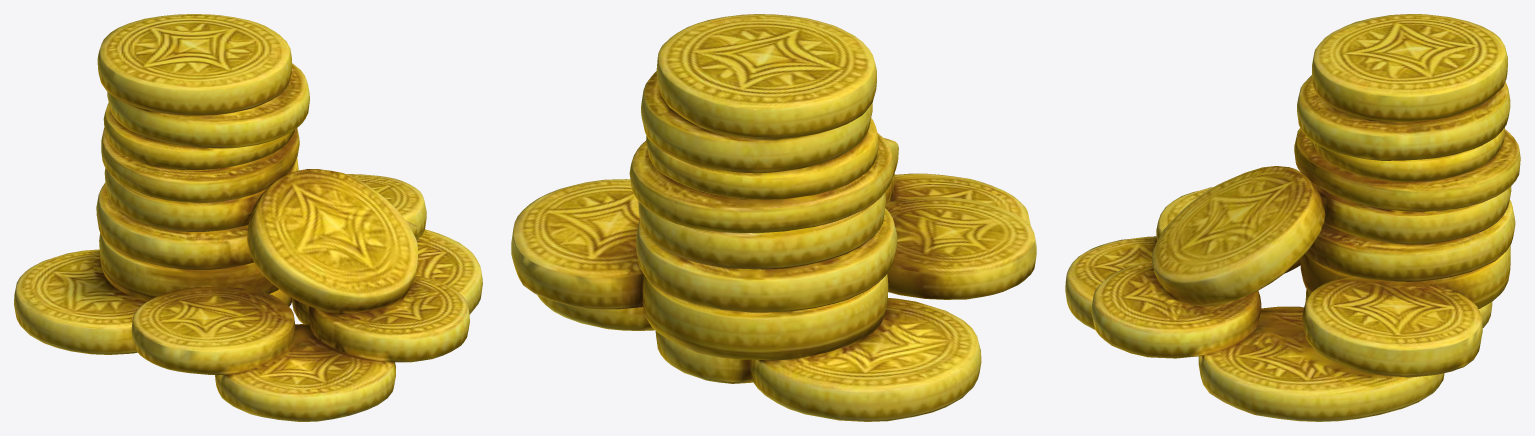
File: coin-gold.glb
The picture shows the model from 3 angles, left to right: view 1: azimuth 30°, elevation 25°; view 2: azimuth 150°, elevation 25°; view 3: azimuth 270°, elevation 25°; orthographic projection. The views are drawn at different scales.
Parts seen in each view (by area): view 1: mesh_input; view 2: mesh_input; view 3: mesh_input.
Boxes of the visible parts, x1,y1,x2,y2 form: mesh_input: [14, 14, 482, 421]; mesh_input: [511, 14, 1036, 421]; mesh_input: [1065, 14, 1520, 421].
Bounding box in the file's own units: 1.9 × 1.16 × 1.82.
1 material, 1 textured.
